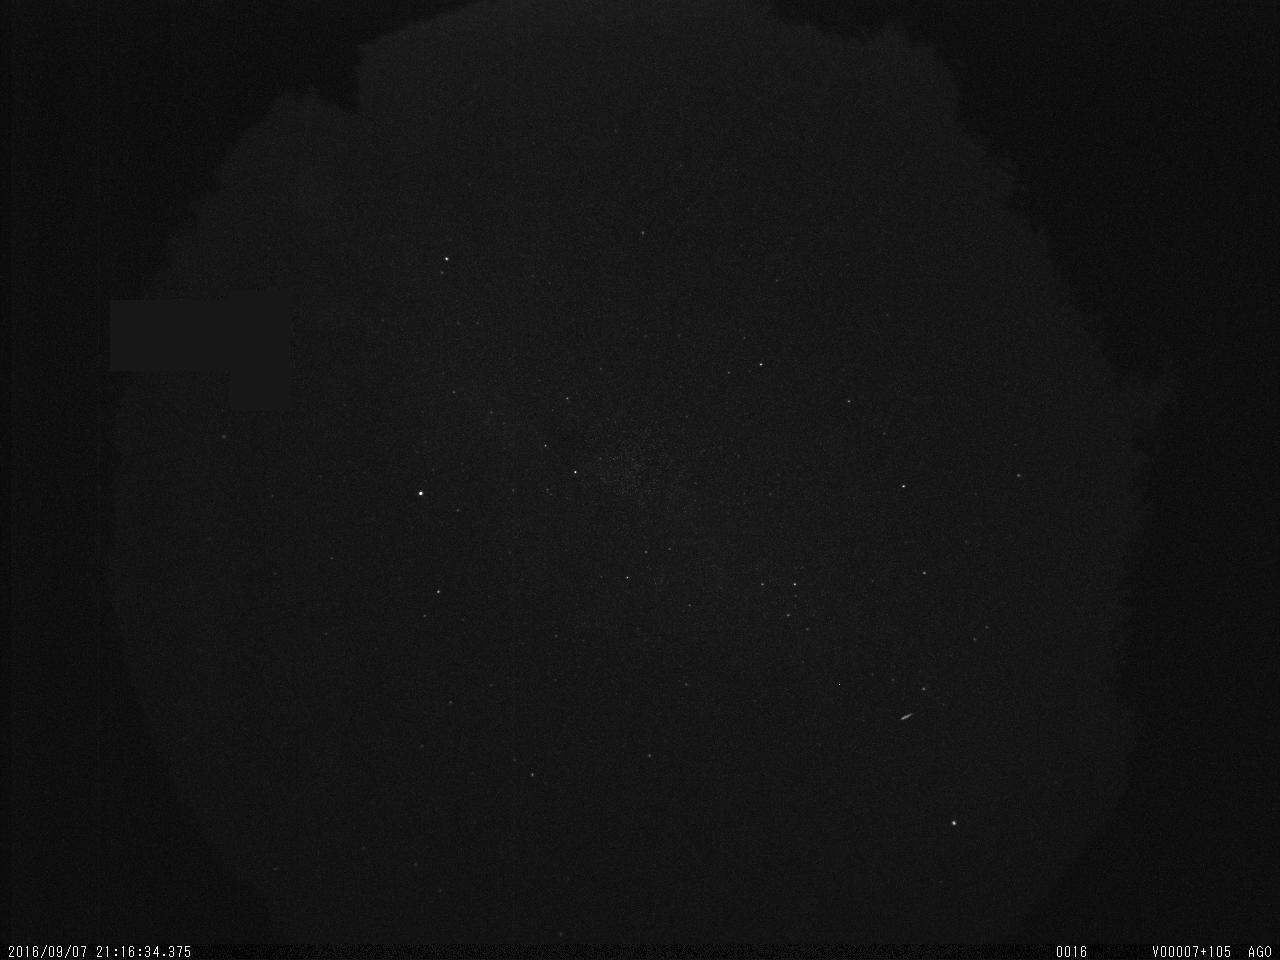meteor: (896, 705, 925, 729)
